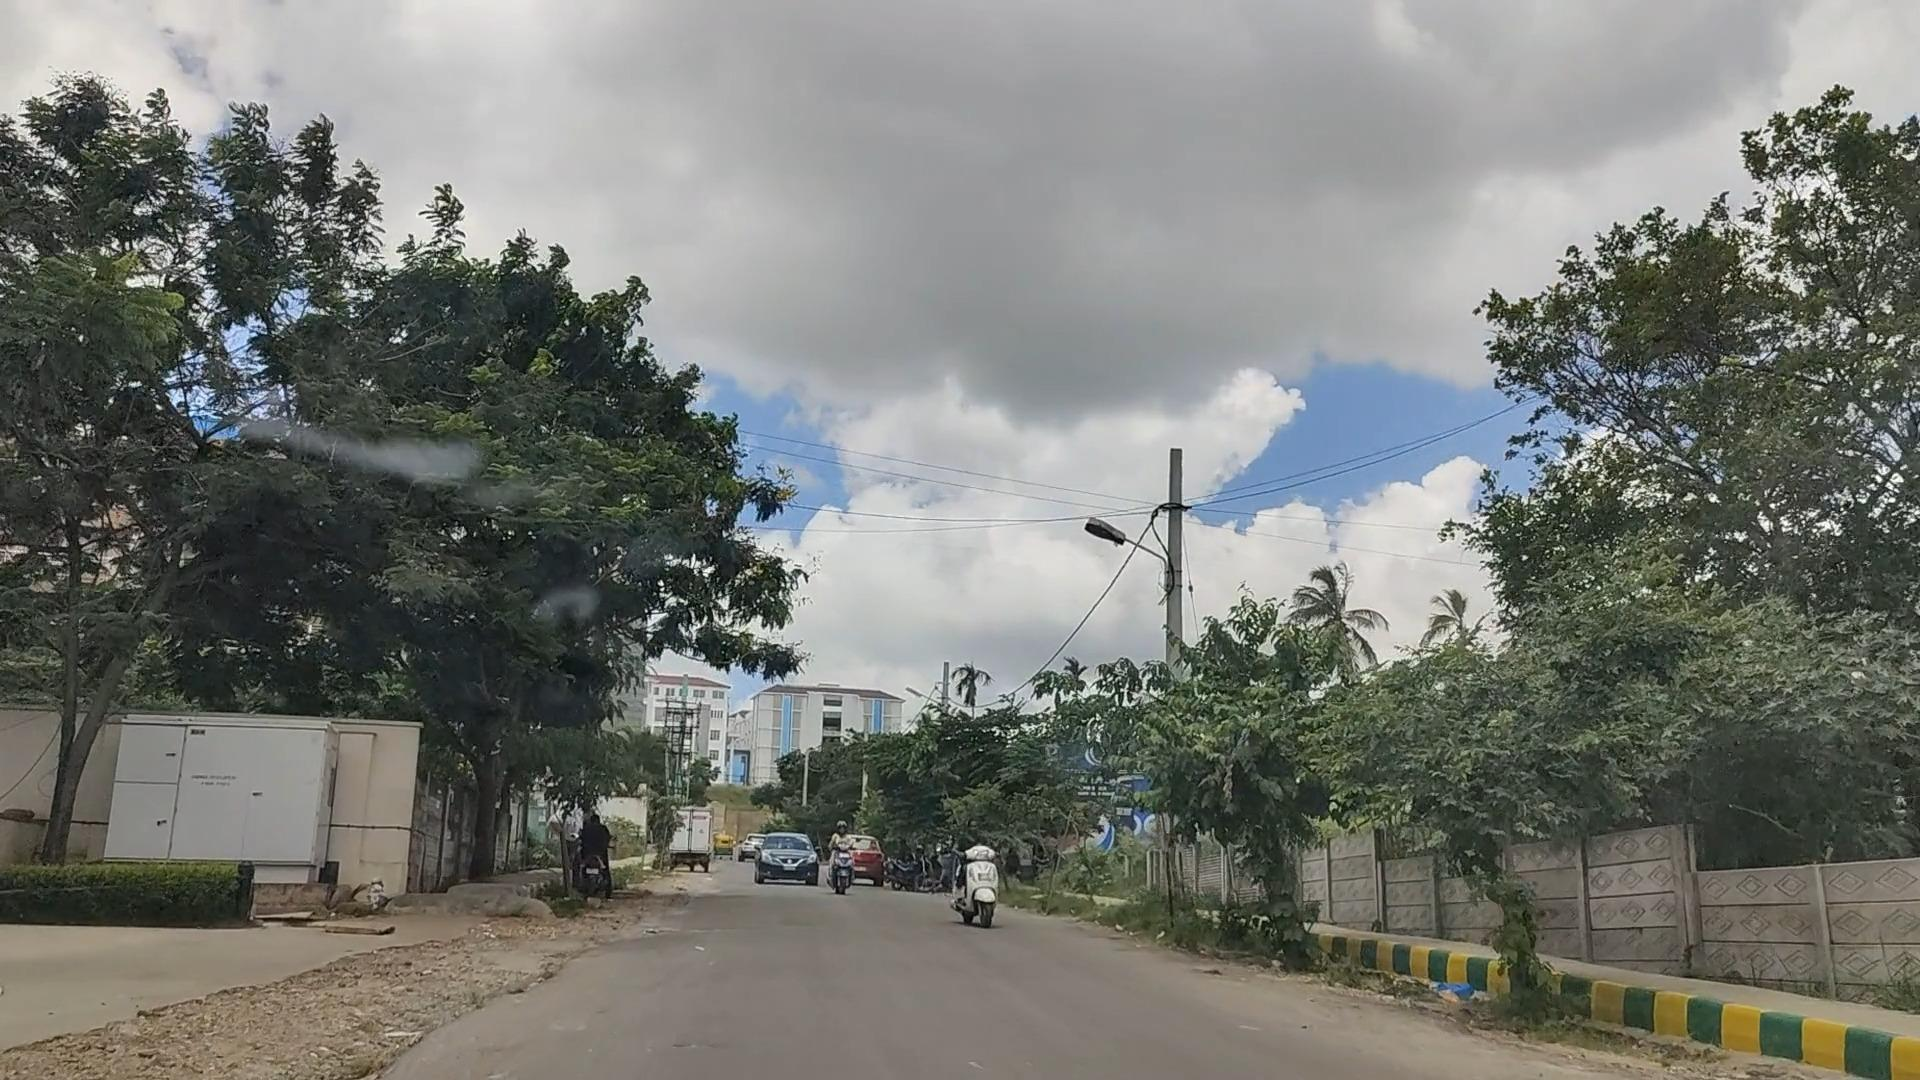RoadDamages: (0, 924, 661, 1080)
